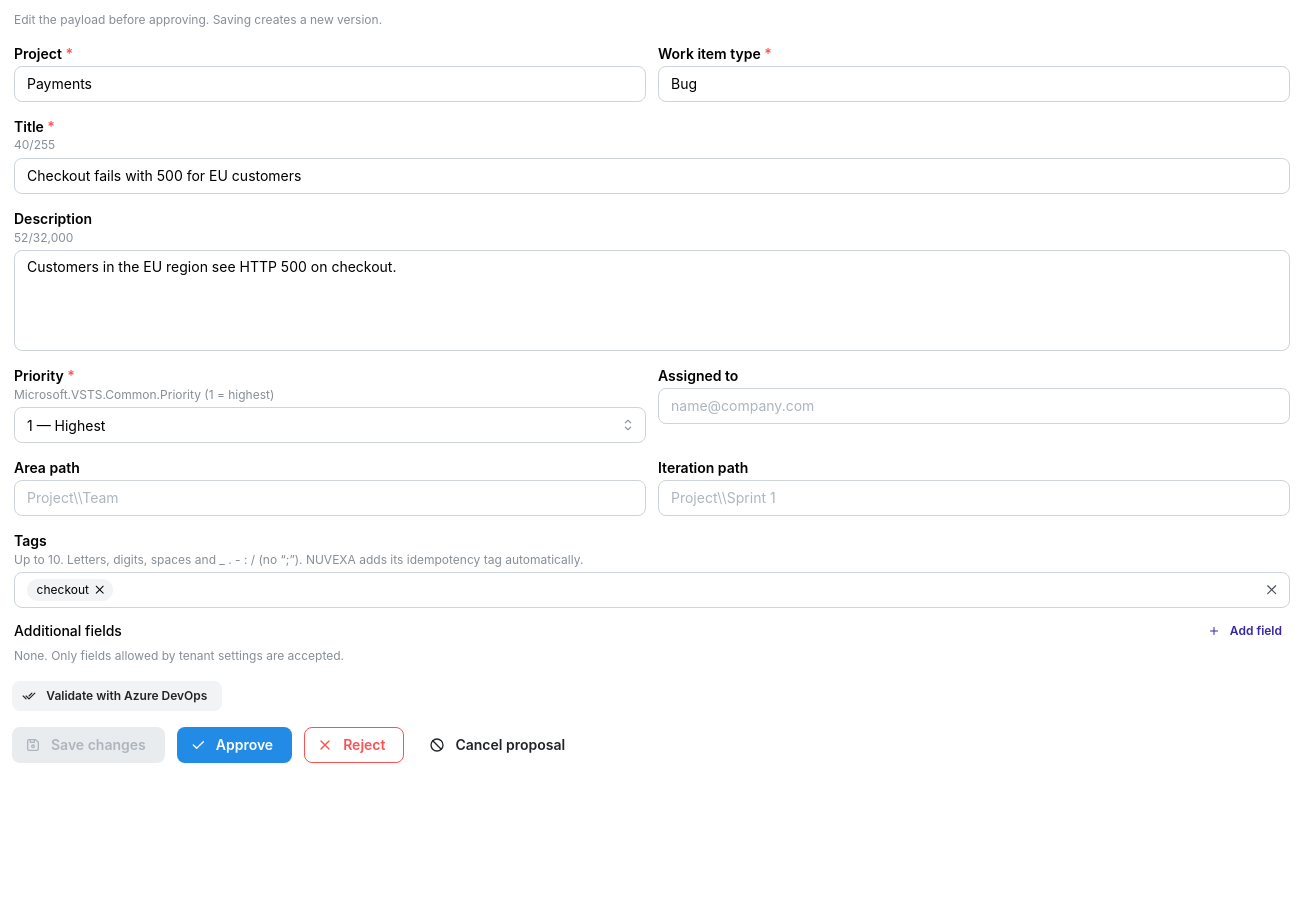
<AdoEditor> › 409 stale_version is reported to the card; other errors toast with the support reference
In the field labelled "Title *": (652, 176) top-left (14, 158), bottom-right (1290, 194), type "!"
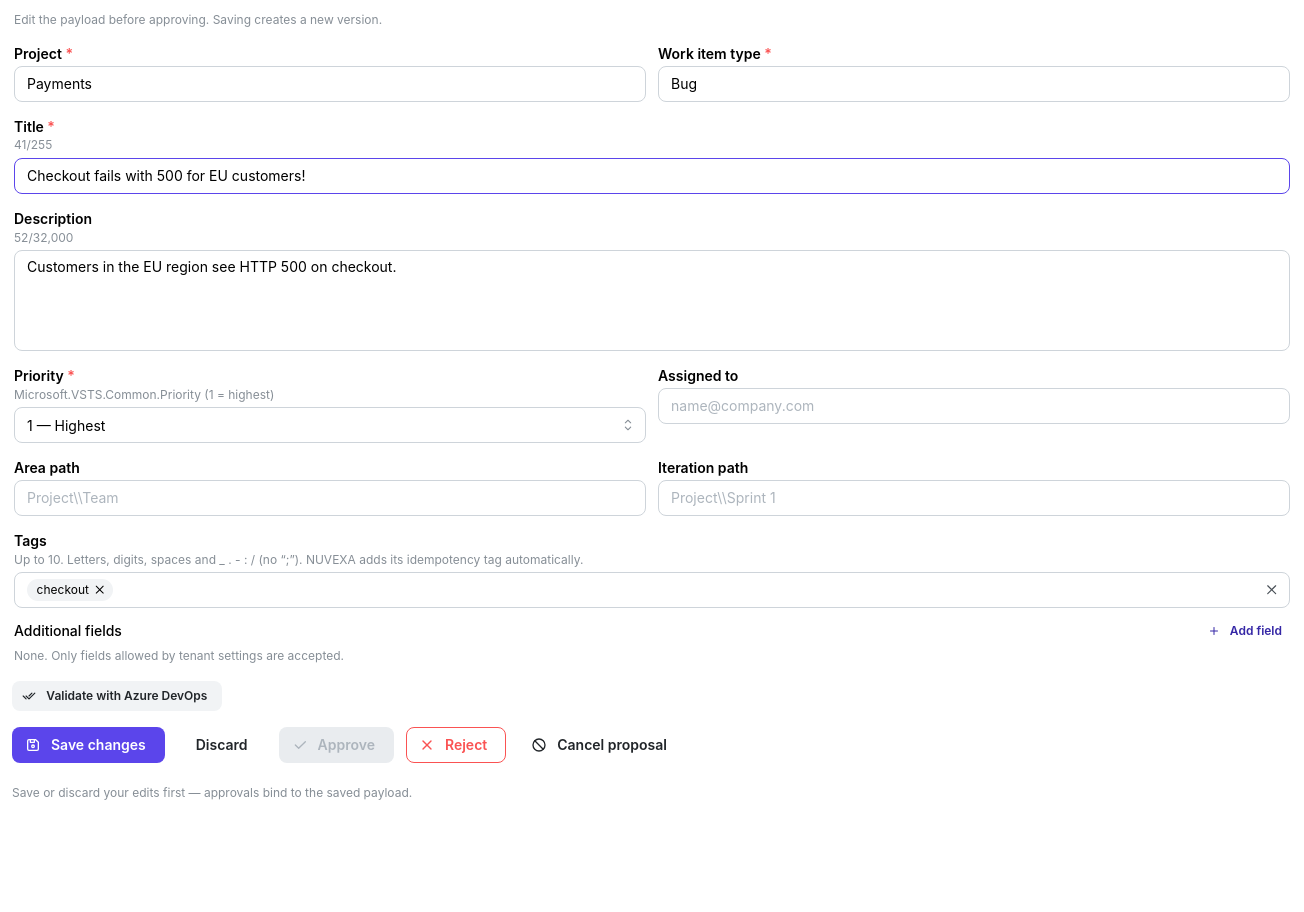
Click the button "Save changes": click(88, 745) top-left (12, 727), bottom-right (165, 763)
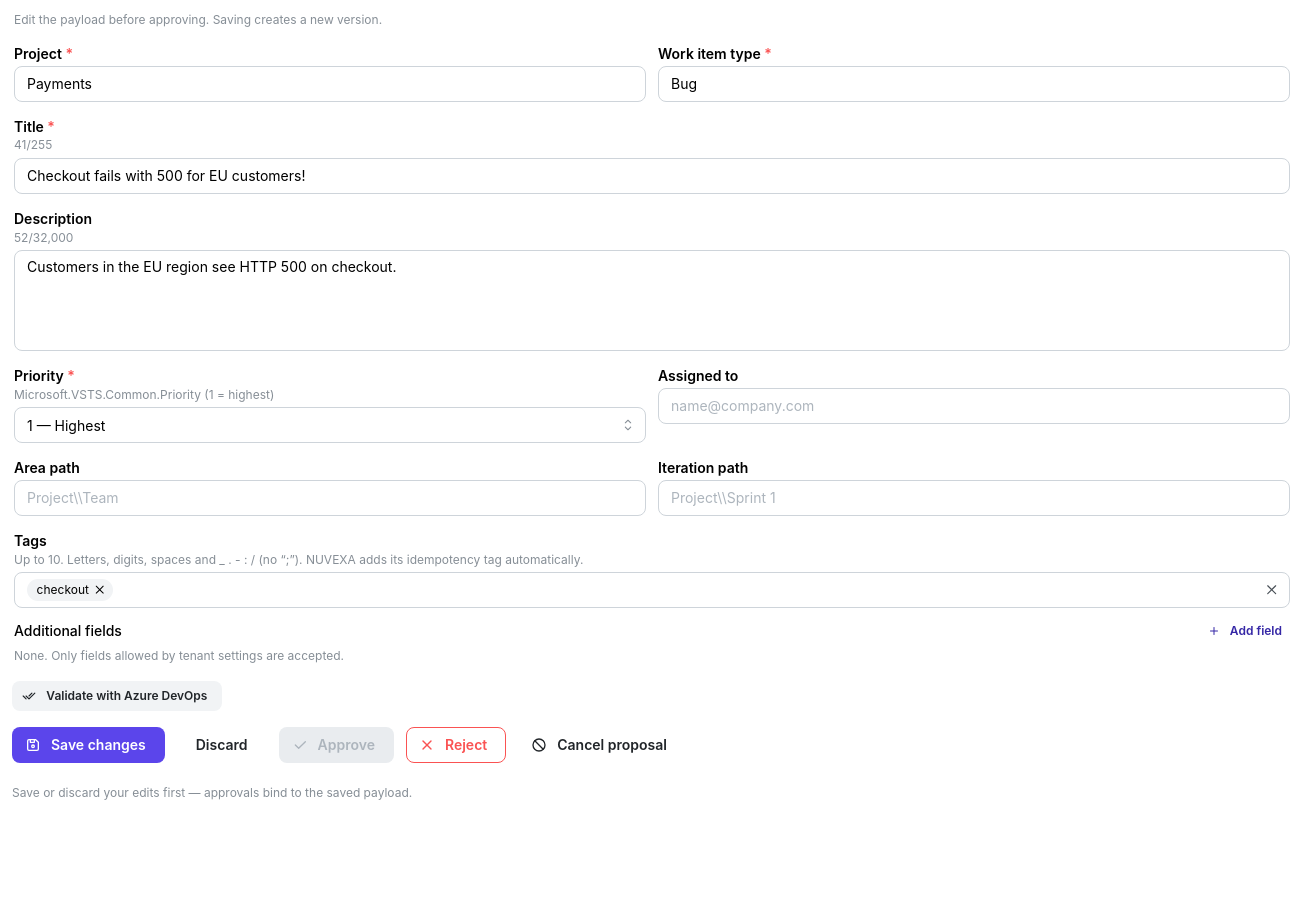
Click the button "Save changes": click(88, 745) top-left (12, 727), bottom-right (165, 763)
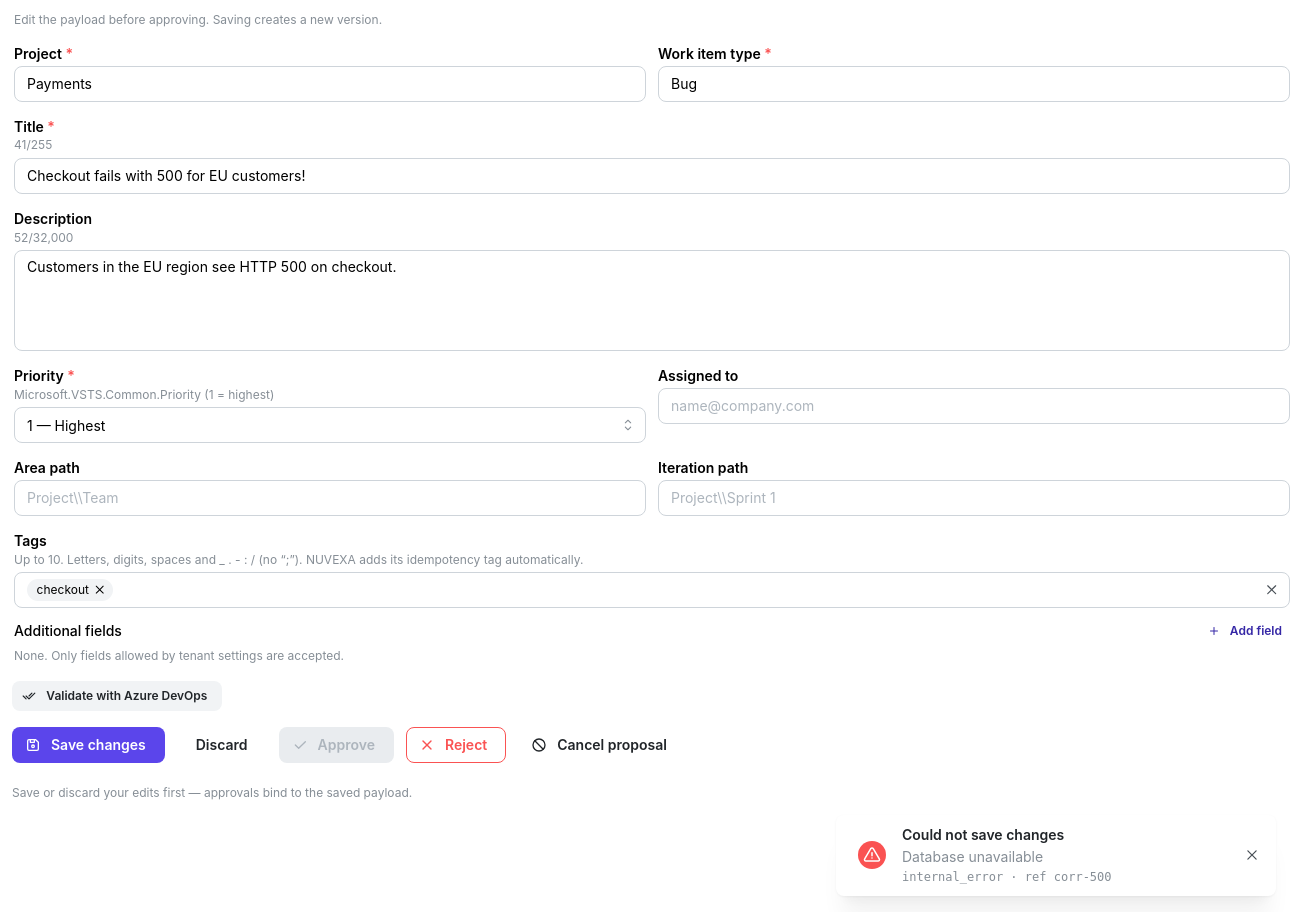
Result: the text "Could not save changes" is shown at top-left (902, 826), bottom-right (1064, 843)
Result: the text "Database unavailable" is shown at top-left (902, 848), bottom-right (1043, 865)
Result: the text "internal_error · ref corr-500" is shown at top-left (902, 870), bottom-right (1112, 884)
